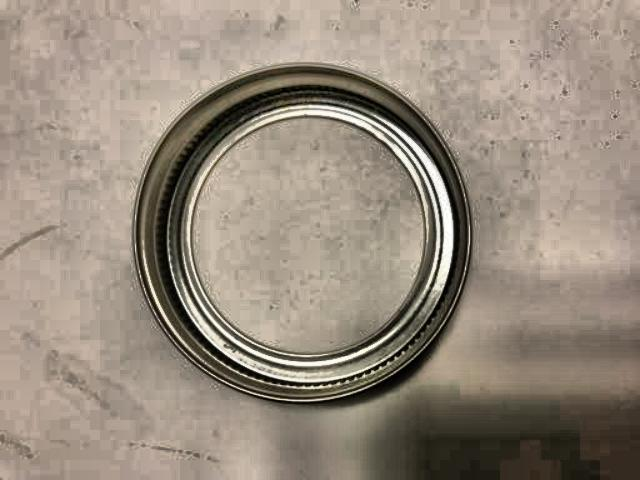Almennt: (119, 51, 498, 410)
